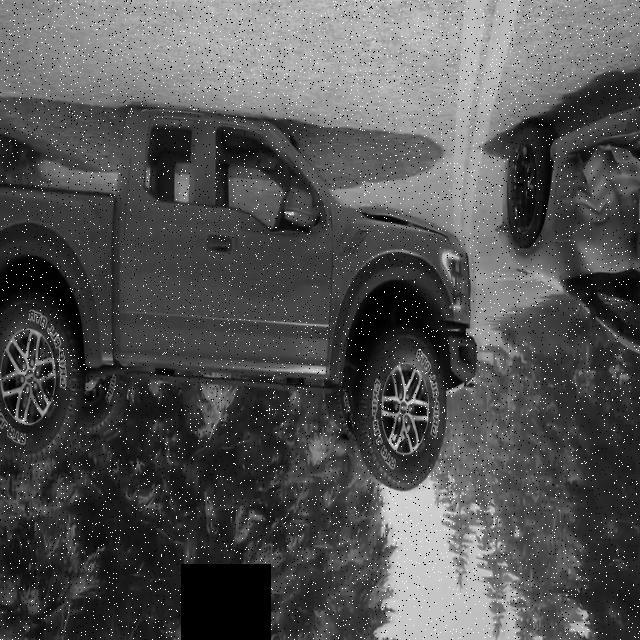severe: (0, 94, 484, 491)
